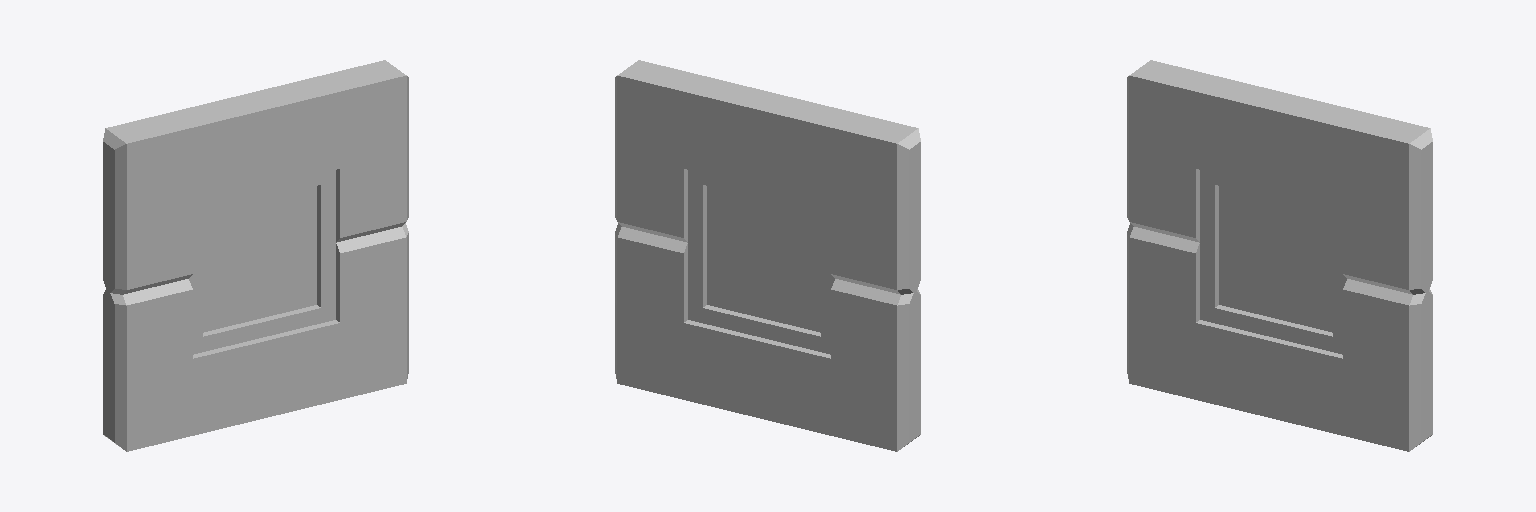
Rendered from wall_window_closed.obj.
The picture shows the model from 3 angles: view 1: azimuth 30°, elevation 25°; view 2: azimuth 150°, elevation 25°; view 3: azimuth 330°, elevation 25°; orthographic projection.
Parts seen in each view (by area): view 1: wall_window_closed_Cube.265; view 2: wall_window_closed_Cube.265; view 3: wall_window_closed_Cube.265.
Part boxes in pixels (bbox=[...]): wall_window_closed_Cube.265: bbox=[103, 60, 408, 451]; wall_window_closed_Cube.265: bbox=[615, 60, 920, 451]; wall_window_closed_Cube.265: bbox=[1127, 60, 1432, 451].
Bounding box in the file's own units: 4 × 4 × 0.5.